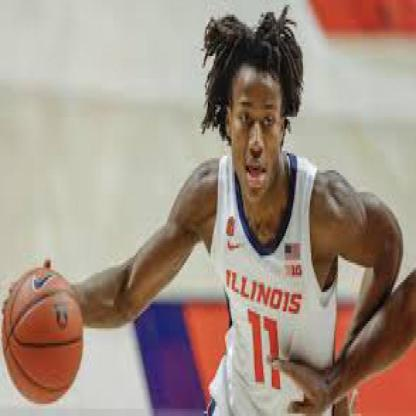basketball: (3, 270, 85, 404)
